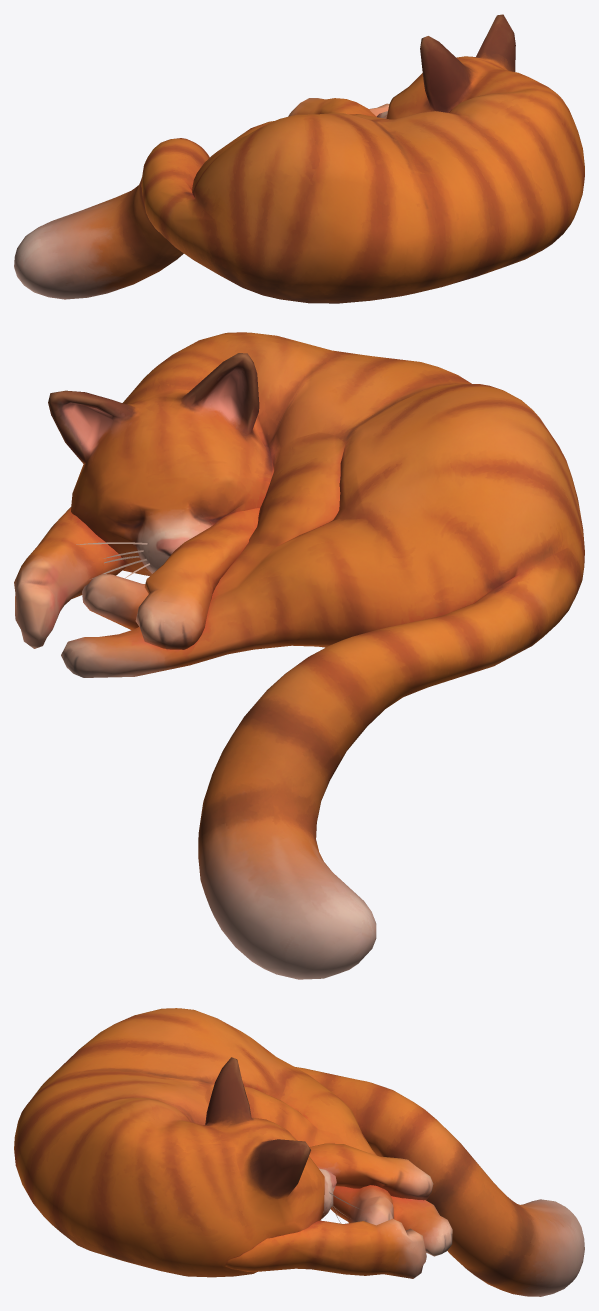
The model's file is SM_Cat.fbx.
3 renders of one model, top to bottom at view 1: azimuth 30°, elevation 25°; view 2: azimuth 150°, elevation 25°; view 3: azimuth 270°, elevation 25°, orthographic. The views are drawn at different scales.
Visible parts, largest first — view 1: SM_Cat_LOD0; view 2: SM_Cat_LOD0; view 3: SM_Cat_LOD0.
Boxes of the visible parts, x1=… form: SM_Cat_LOD0: x1=14, y1=14, x2=584, y2=303; SM_Cat_LOD0: x1=14, y1=332, x2=584, y2=979; SM_Cat_LOD0: x1=14, y1=1008, x2=584, y2=1296.
Bounding box in the file's own units: 27.64 × 35.89 × 22.53.
1 material, 1 textured.
